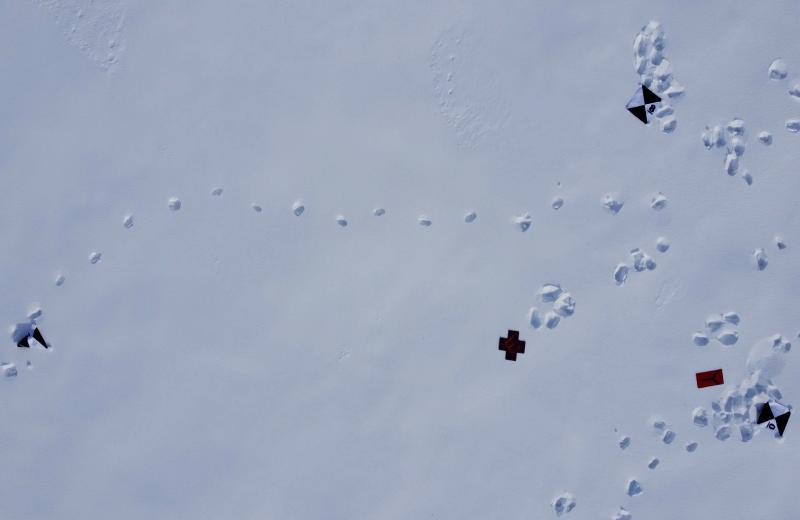Cross: (498, 330, 527, 362)
Rectangle: (696, 367, 726, 389)
